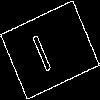I: (25, 25, 55, 73)
